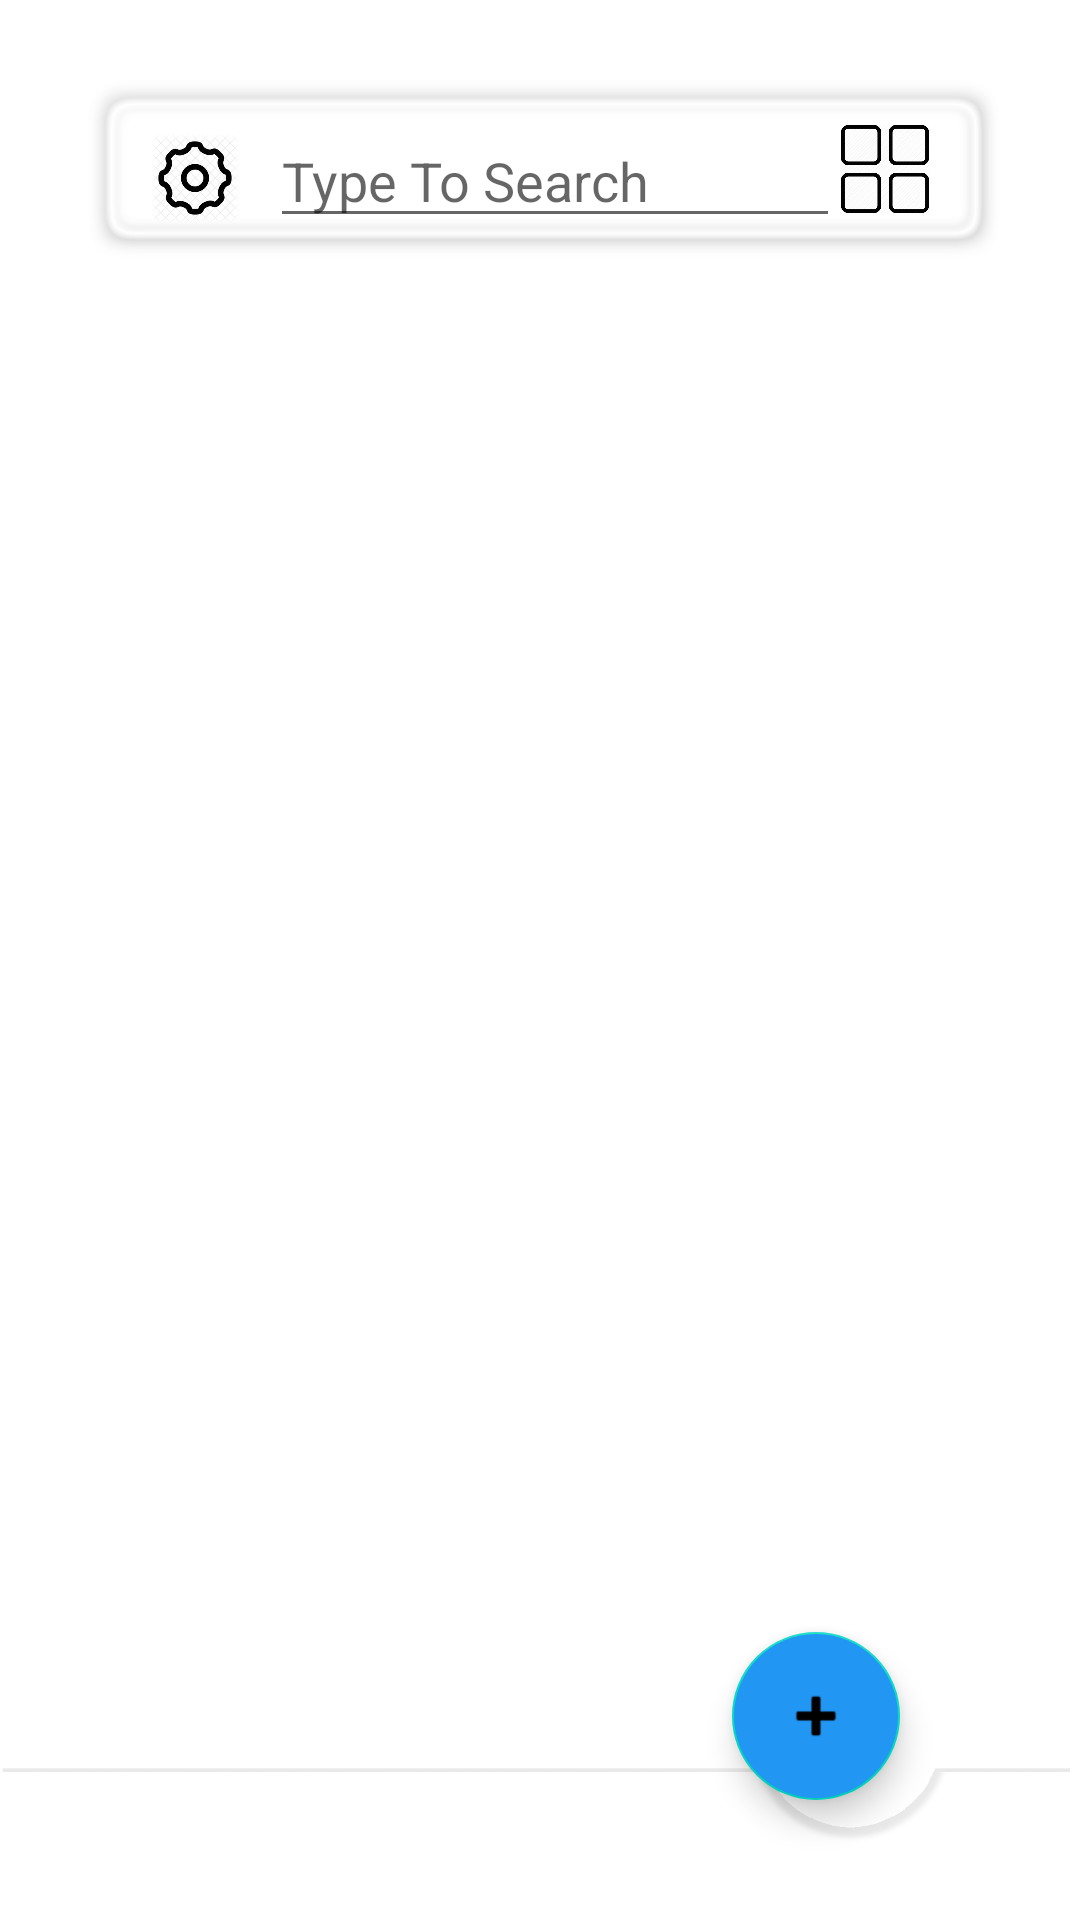

Locate icon controls on the screen. Image size 1080×1920, boxes as bbox(x1, y1, x2, y2).
add: bbox(732, 1632, 900, 1800)
